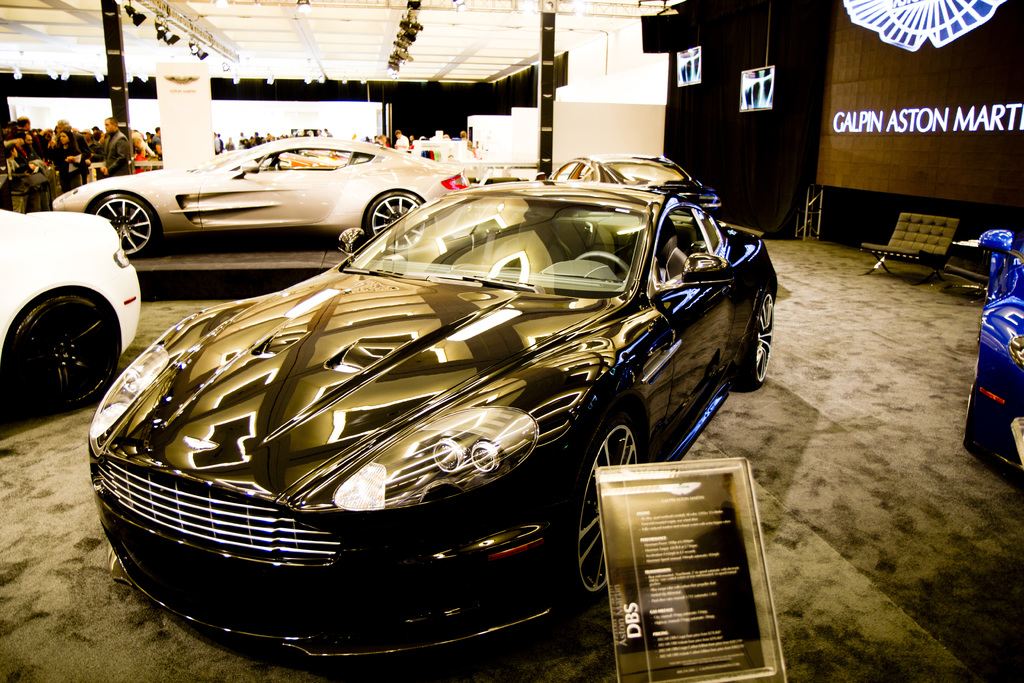Car: (88, 151, 776, 651), (46, 132, 452, 256), (0, 206, 142, 422), (535, 152, 722, 207), (465, 165, 535, 187)
